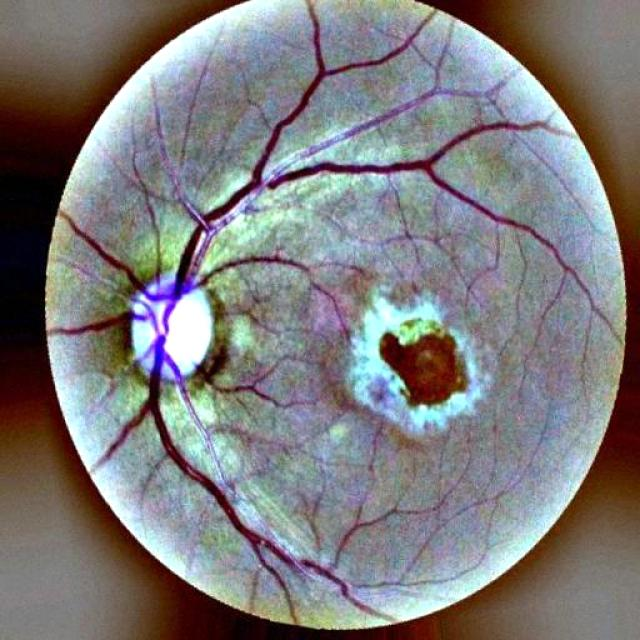Macula: (340, 276, 484, 431)
Nerves: (55, 16, 562, 611)
Optic Disk: (91, 246, 240, 402)
